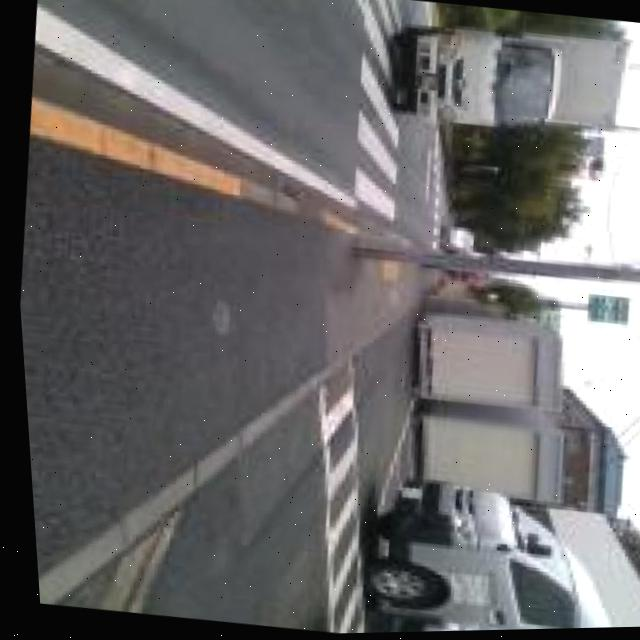Automobile: (356, 486, 601, 634), (389, 30, 618, 126)
Obstacle: (349, 247, 640, 286)
Road: (30, 0, 439, 250)
Sidewalk: (16, 134, 414, 573)
